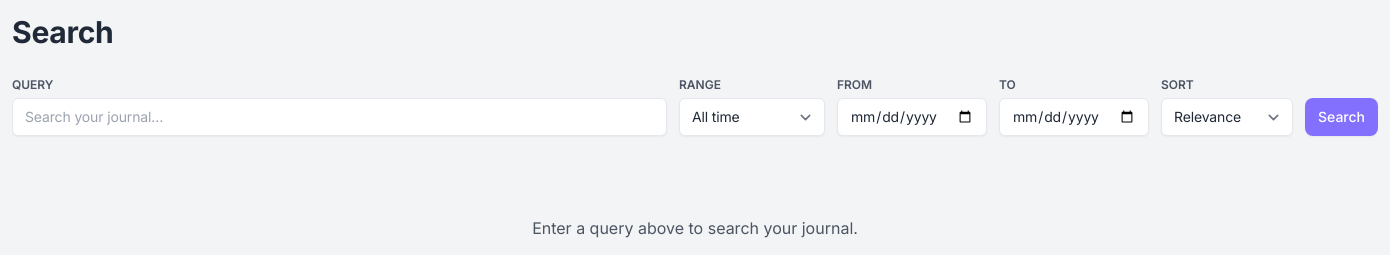
Test: SearchView › renders the server error in an error banner
Type "\"" into the search field with test id "search-query-input" at [340, 117], box left=12, top=98, right=667, bottom=136
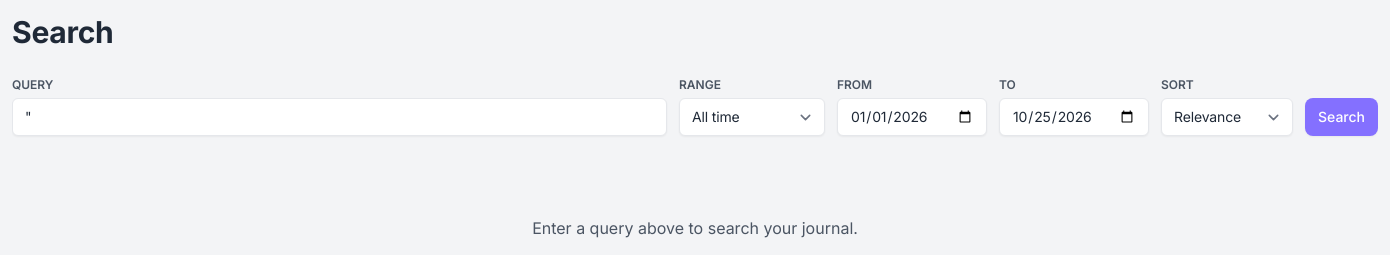
Submit the form with test id "search-form", box left=12, top=76, right=1378, bottom=136
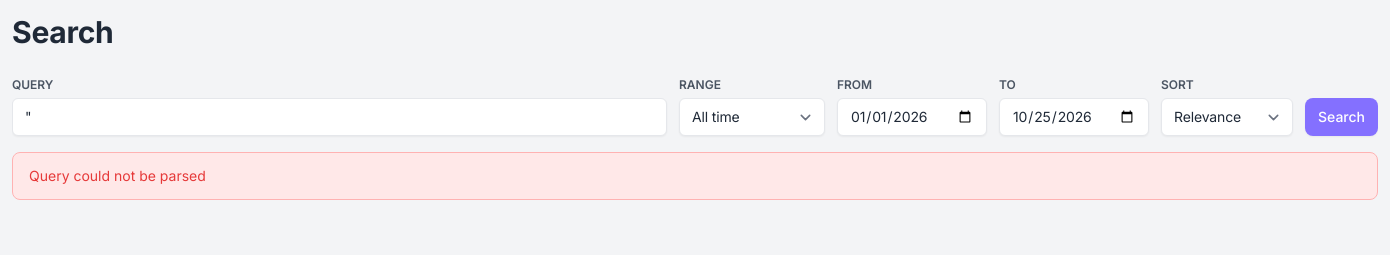
Check: the text "Query could not be parsed" is shown, box left=12, top=152, right=1378, bottom=200
Check: the text with test id "error-banner" reads "Query could not be parsed", box left=29, top=167, right=206, bottom=184
